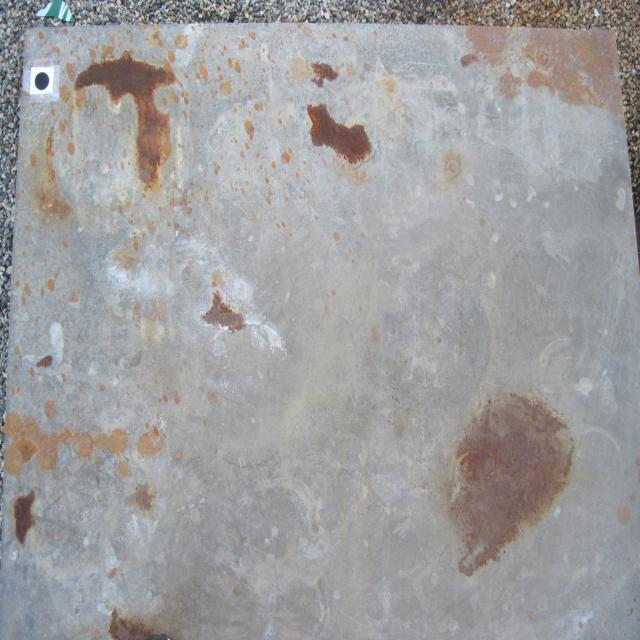corrosion: (450, 390, 574, 580), (466, 24, 625, 116), (76, 53, 177, 187), (0, 411, 166, 476), (304, 100, 373, 164), (34, 106, 72, 220), (108, 605, 172, 640), (200, 290, 243, 335), (14, 488, 36, 546), (132, 478, 157, 512), (312, 59, 337, 86), (35, 353, 53, 368)
